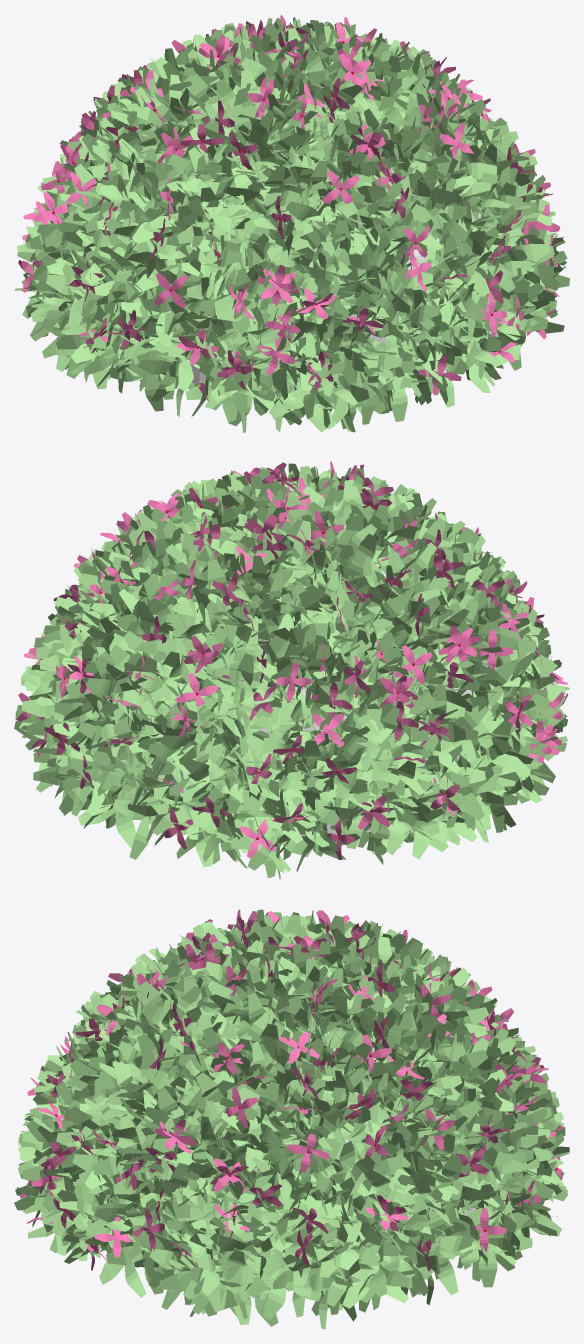
Rendered from FlowerBush.fbx.
The picture shows the model from 3 angles, top to bottom: view 1: azimuth 30°, elevation 25°; view 2: azimuth 150°, elevation 25°; view 3: azimuth 270°, elevation 25°; orthographic projection.
Visible parts, largest first — view 1: Sphere.001|leaf|Dupli|1804, Sphere.001|leaf|Dupli|790, Sphere.001|leaf|Dupli|748, Sphere.001|leaf|Dupli|79, Sphere.001|leaf|Dupli|817, Sphere.001|leaf|Dupli|1343, Sphere.001|leaf|Dupli|1683, Sphere.001, Sphere.001|leaf|Dupli|1109, Sphere.001|flower|Dupli|4.1, Sphere.001|leaf|Dupli|215, Sphere.001|leaf|Dupli|620 (+7 smaller); view 2: Sphere.001|leaf|Dupli|1173, Sphere.001|leaf|Dupli|179, Sphere.001|leaf|Dupli|1249, Sphere.001|leaf|Dupli|109, Sphere.001|leaf|Dupli|1188, Sphere.001|leaf|Dupli|910, Sphere.001|leaf|Dupli|1323, Sphere.001|leaf|Dupli|1813, Sphere.001|leaf|Dupli|167, Sphere.001|leaf|Dupli|1802, Sphere.001, Sphere.001|leaf|Dupli|1112 (+15 smaller); view 3: Sphere.001|leaf|Dupli|847, Sphere.001|leaf|Dupli|1653, Sphere.001|leaf|Dupli|753, Sphere.001|leaf|Dupli|229, Sphere.001|leaf|Dupli|284, Sphere.001|leaf|Dupli|259, Sphere.001|leaf|Dupli|1262, Sphere.001|leaf|Dupli|92, Sphere.001|leaf|Dupli|747, Sphere.001|leaf|Dupli|1065, Sphere.001|leaf|Dupli|1462, Sphere.001|leaf|Dupli|840 (+11 smaller).
Boxes of the visible parts, <box> form: Sphere.001|leaf|Dupli|1804: <box>109,328,175,411</box>; Sphere.001|leaf|Dupli|790: <box>367,335,432,421</box>; Sphere.001|leaf|Dupli|748: <box>138,332,190,401</box>; Sphere.001|leaf|Dupli|79: <box>396,302,440,359</box>; Sphere.001|leaf|Dupli|817: <box>456,256,485,321</box>; Sphere.001|leaf|Dupli|1343: <box>131,312,180,388</box>; Sphere.001|leaf|Dupli|1683: <box>212,167,252,225</box>; Sphere.001: <box>84,118,481,390</box>; Sphere.001|leaf|Dupli|1109: <box>121,302,173,343</box>; Sphere.001|flower|Dupli|4.1: <box>154,272,187,308</box>; Sphere.001|leaf|Dupli|215: <box>316,220,378,269</box>; Sphere.001|leaf|Dupli|620: <box>148,336,199,391</box>; Sphere.001|leaf|Dupli|1173: <box>112,788,155,859</box>; Sphere.001|leaf|Dupli|179: <box>236,803,311,870</box>; Sphere.001|leaf|Dupli|1249: <box>78,770,135,847</box>; Sphere.001|leaf|Dupli|109: <box>211,681,295,755</box>; Sphere.001|leaf|Dupli|1188: <box>388,551,448,596</box>; Sphere.001|leaf|Dupli|910: <box>204,741,238,804</box>; Sphere.001|leaf|Dupli|1323: <box>180,745,243,802</box>; Sphere.001|leaf|Dupli|1813: <box>348,779,427,851</box>; Sphere.001|leaf|Dupli|167: <box>156,608,211,670</box>; Sphere.001|leaf|Dupli|1802: <box>458,754,491,820</box>; Sphere.001: <box>147,563,471,836</box>; Sphere.001|leaf|Dupli|1112: <box>320,533,385,585</box>; Sphere.001|leaf|Dupli|847: <box>246,1255,321,1319</box>; Sphere.001|leaf|Dupli|1653: <box>99,1222,146,1297</box>; Sphere.001|leaf|Dupli|753: <box>224,1267,291,1326</box>; Sphere.001|leaf|Dupli|229: <box>478,1211,532,1287</box>; Sphere.001|leaf|Dupli|284: <box>141,986,201,1037</box>; Sphere.001|leaf|Dupli|259: <box>342,1274,408,1308</box>; Sphere.001|leaf|Dupli|1262: <box>421,1235,473,1279</box>; Sphere.001|leaf|Dupli|92: <box>144,1090,206,1125</box>; Sphere.001|leaf|Dupli|747: <box>219,1081,287,1130</box>; Sphere.001|leaf|Dupli|1065: <box>441,1154,490,1200</box>; Sphere.001|leaf|Dupli|1462: <box>315,1245,372,1306</box>; Sphere.001|leaf|Dupli|840: <box>92,1115,136,1174</box>.
Bounding box in the file's own units: 243 × 140 × 241.
